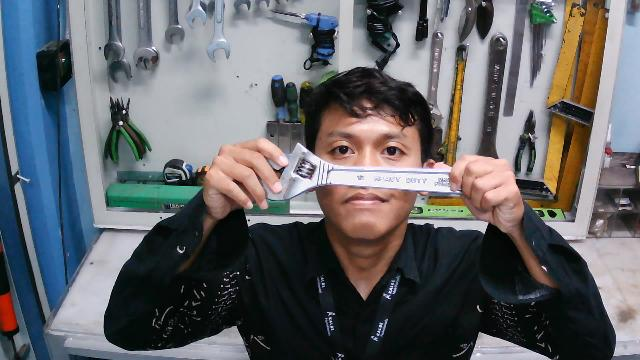kunci_inggris: (239, 143, 472, 201)
